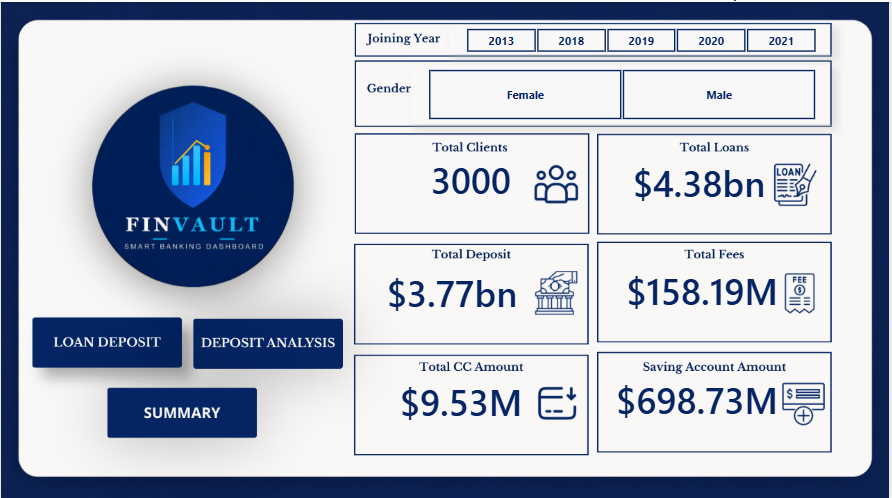

The page's visual inventory and layout, read from the dashboard file:
{"tool":"powerbi","page":{"name":"Home","canvas":[1280,720],"ordinal":0},"visuals":[{"type":"card","fields":{"Values":["public customer.Total Clients"]},"box":[517,194.4,319.7,121],"z":0},{"type":"slicer","fields":{"Values":["public customer.GenderId"]},"box":[590.4,90.7,606.2,85],"z":1000},{"type":"card","fields":{"Values":["public customer.Total Loans"]},"box":[845.3,198.7,319.7,121],"z":2000},{"type":"card","fields":{"Values":["public customer.Total Deposit"]},"box":[489.6,357.3,319.8,120.8],"z":3000},{"type":"card","fields":{"Values":["public customer.Total CC Amount"]},"box":[503.1,514.6,319.8,120.8],"z":4000},{"type":"card","fields":{"Values":["public customer.Total Fees"]},"box":[849,354.2,319.8,120.8],"z":5000},{"type":"card","fields":{"Values":["public customer.Saving Account Amount"]},"box":[842.7,511.5,319.8,120.8],"z":6000},{"type":"slicer","fields":{"Values":["public customer.Year Of Joining"]},"box":[644.8,32.3,552.1,42.7],"z":7000},{"type":"actionButton","box":[46.1,453.6,217.4,73.4],"z":8000},{"type":"actionButton","box":[272.2,453.6,217.4,73.4],"z":9000},{"type":"actionButton","box":[154.1,555.8,217.4,73.4],"z":10000}]}

Visuals, with their boxes in screenshot pixels (x1, y1, x2, y2), scaled from the page's 1280x720 canvas onto the 892x498 screenshot:
card - public customer.Total Clients: region(360, 134, 583, 218)
slicer - public customer.GenderId: region(411, 63, 834, 122)
card - public customer.Total Loans: region(589, 137, 812, 221)
card - public customer.Total Deposit: region(341, 247, 564, 331)
card - public customer.Total CC Amount: region(351, 356, 573, 439)
card - public customer.Total Fees: region(592, 245, 815, 329)
card - public customer.Saving Account Amount: region(587, 354, 810, 437)
slicer - public customer.Year Of Joining: region(449, 22, 834, 52)
actionButton: region(32, 314, 184, 365)
actionButton: region(190, 314, 341, 365)
actionButton: region(107, 384, 259, 435)
